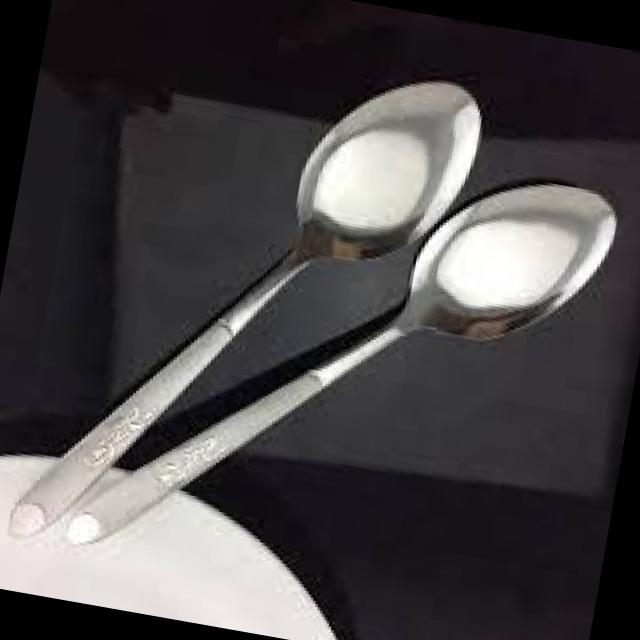spoon: (0, 5, 488, 547)
